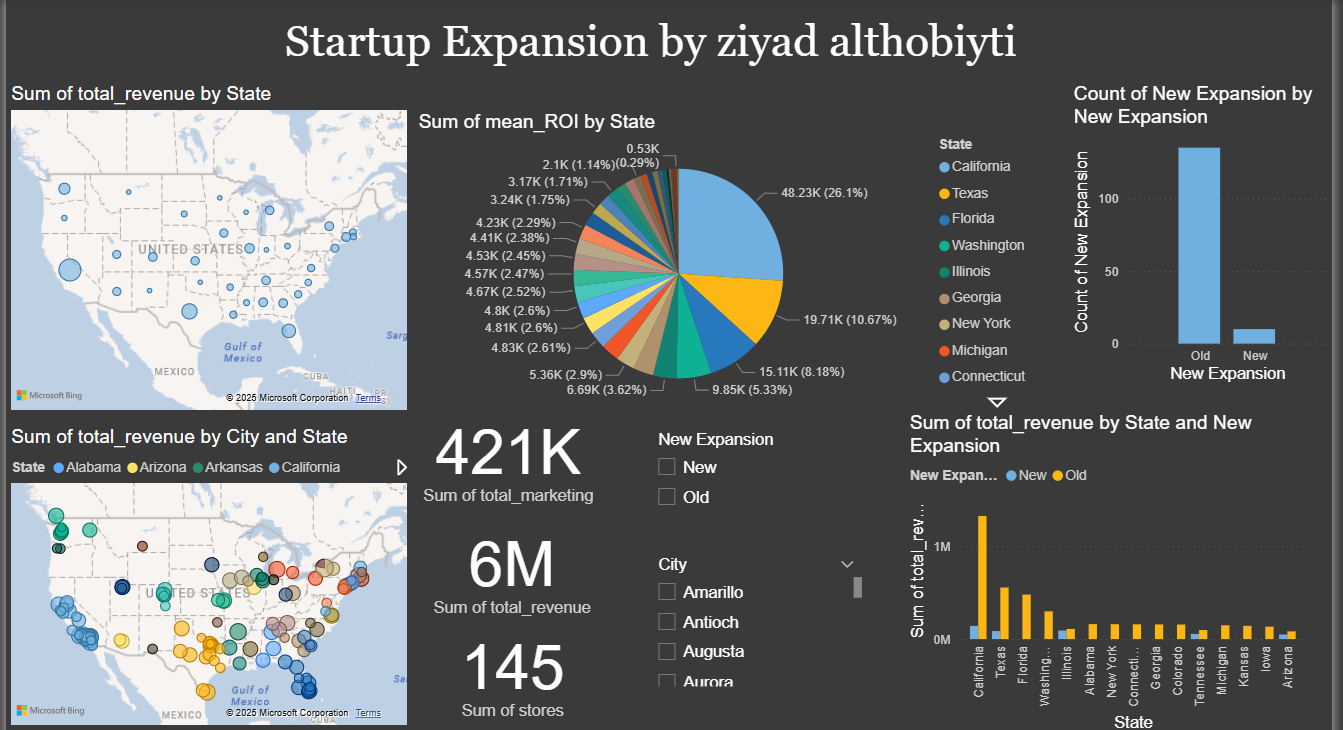

This screenshot's page, from the dashboard's own definition file:
{"tool":"powerbi","page":{"name":"overview","canvas":[1280,720],"ordinal":0},"visuals":[{"type":"map","fields":{"Category":["Sheet1.State"],"Size":["Sum(Sheet1.total_revenue)"]},"box":[0,82,392.1,320.9],"z":0},{"type":"textbox","box":[264.1,12.2,845,69.7],"z":1000},{"type":"map","fields":{"Size":["Sum(Sheet1.total_revenue)"],"Category":["Sheet1.City"],"Series":["Sheet1.State"]},"box":[0,412.6,392.1,294.4],"z":2000},{"type":"clusteredColumnChart","fields":{"Y":["CountNonNull(Sheet1.New Expansion)"],"Category":["Sheet1.New Expansion"]},"box":[1025.5,82,254.6,294.4],"z":3000},{"type":"pieChart","fields":{"Category":["Sheet1.State"],"Y":["Sum(Sheet1.mean_ROI)"]},"box":[393.3,108.6,623.7,294.4],"z":4000},{"type":"card","fields":{"Values":["Sum(Sheet1.total_marketing)"]},"box":[393.3,386.1,183.4,113.4],"z":5000},{"type":"card","fields":{"Values":["Sum(Sheet1.total_revenue)"]},"box":[400.5,499.5,176.1,102.5],"z":6000},{"type":"card","fields":{"Values":["Sum(Sheet1.stores)"]},"box":[405.4,602,167.7,96.5],"z":7000},{"type":"slicer","fields":{"Values":["Sheet1.New Expansion"]},"box":[616.5,412.6,200.3,105],"z":8000},{"type":"slicer","fields":{"Values":["Sheet1.City"]},"box":[616.5,533.2,214.7,136.3],"z":9000},{"type":"clusteredColumnChart","fields":{"Category":["Sheet1.State"],"Y":["Sum(Sheet1.total_revenue)"],"Series":["Sheet1.New Expansion"]},"box":[867.4,399.3,392.1,320.9],"z":10000}]}

Visuals, with their boxes in screenshot pixels (x1, y1, x2, y2):
map - Sheet1.State x Sum(Sheet1.total_revenue): BBox(7, 107, 400, 428)
textbox: BBox(271, 37, 1117, 106)
map - Sum(Sheet1.total_revenue) x Sheet1.City: BBox(7, 438, 400, 729)
clusteredColumnChart - CountNonNull(Sheet1.New Expansion) x Sheet1.New Expansion: BBox(1034, 107, 1289, 401)
pieChart - Sheet1.State x Sum(Sheet1.mean_ROI): BBox(401, 133, 1025, 428)
card - Sum(Sheet1.total_marketing): BBox(401, 411, 584, 525)
card - Sum(Sheet1.total_revenue): BBox(408, 525, 584, 627)
card - Sum(Sheet1.stores): BBox(413, 627, 581, 724)
slicer - Sheet1.New Expansion: BBox(624, 438, 825, 543)
slicer - Sheet1.City: BBox(624, 558, 839, 695)
clusteredColumnChart - Sheet1.State x Sum(Sheet1.total_revenue): BBox(875, 424, 1268, 729)
